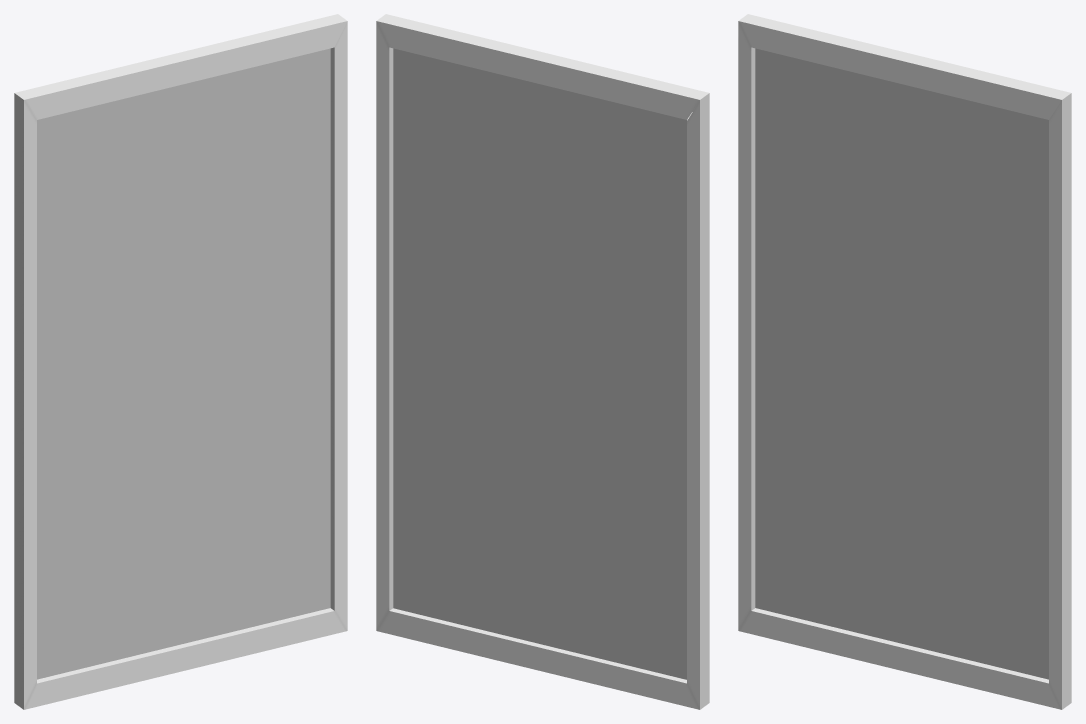
File: window.fbx
3 views of the same model, side by side, from view 1: azimuth 30°, elevation 25°; view 2: azimuth 150°, elevation 25°; view 3: azimuth 330°, elevation 25° (orthographic).
Parts seen in each view (by area): view 1: Cube, Cube.001; view 2: Cube, Cube.001; view 3: Cube, Cube.001.
Part boxes in pixels (x1,y1,x2,y2): Cube: [37, 48, 330, 679]; Cube.001: [14, 14, 347, 709]; Cube: [393, 48, 689, 679]; Cube.001: [376, 14, 709, 709]; Cube: [755, 48, 1048, 679]; Cube.001: [738, 14, 1071, 709].
Size of the model in its own units: 97.5 by 176 by 5.
1 material, 1 textured.
